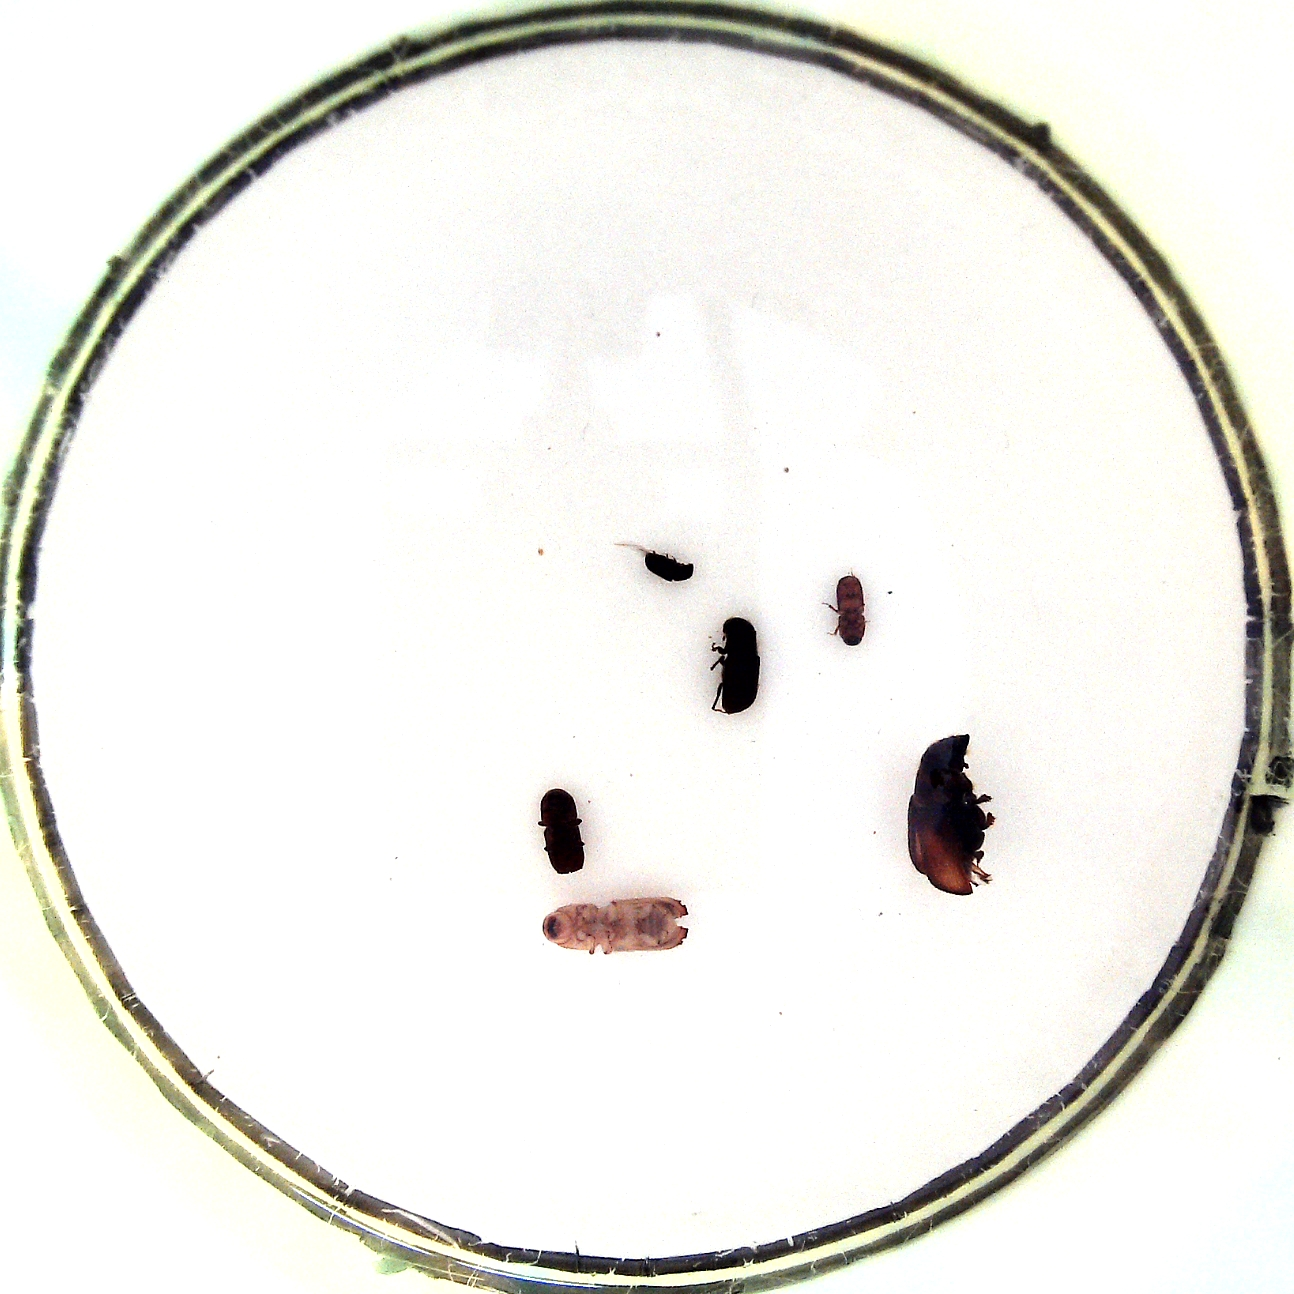Boerner: (538, 896, 690, 957)
Leconte: (899, 728, 997, 898)
Linnaeus: (539, 786, 588, 876)
acuminatus: (820, 571, 870, 651)
armandi: (702, 615, 762, 719)
coleoptera: (630, 543, 697, 584)
